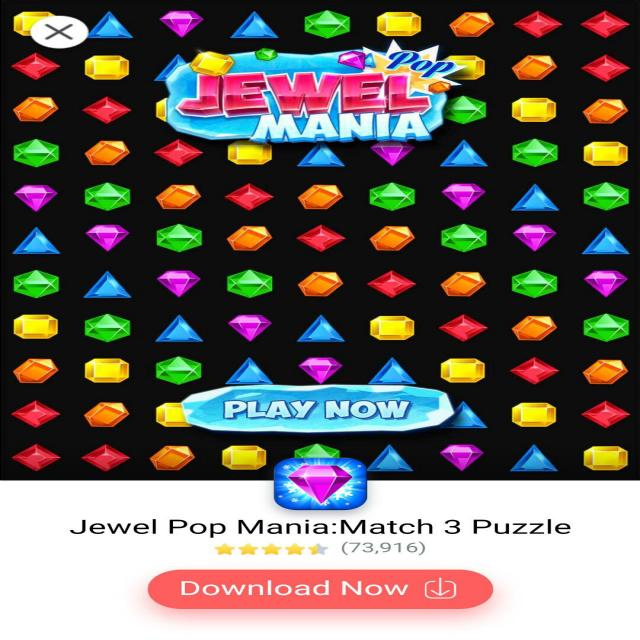button: (128, 558, 526, 625)
image: (2, 2, 640, 510), (201, 542, 470, 562)
text: (67, 515, 615, 541)
